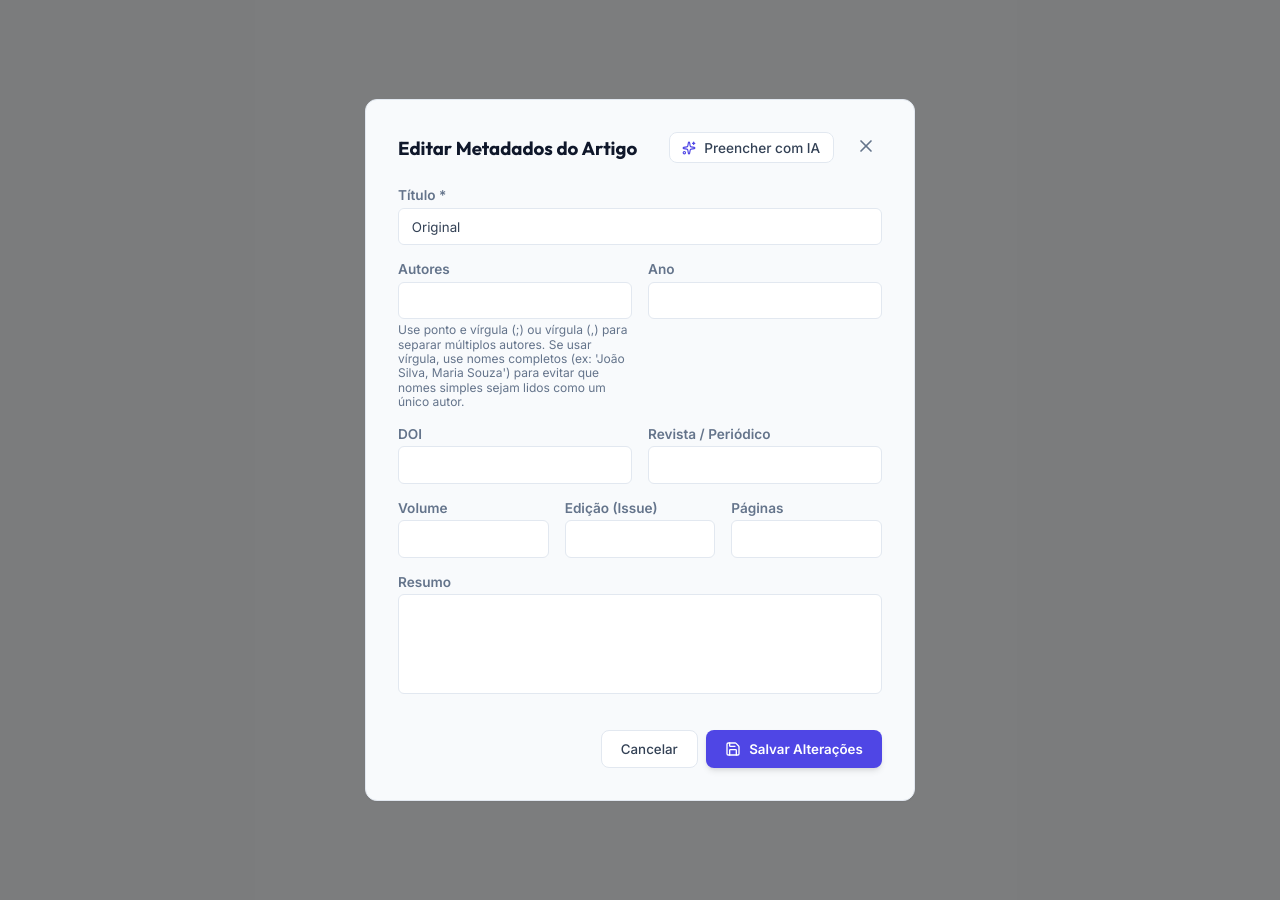
Test case: EditArticleModal AI fill › fills only the fields that are still empty
The image size is (1280, 900).
Click the button "Preencher com IA" at (751, 148), box x1=668 y1=132 x2=834 y2=163
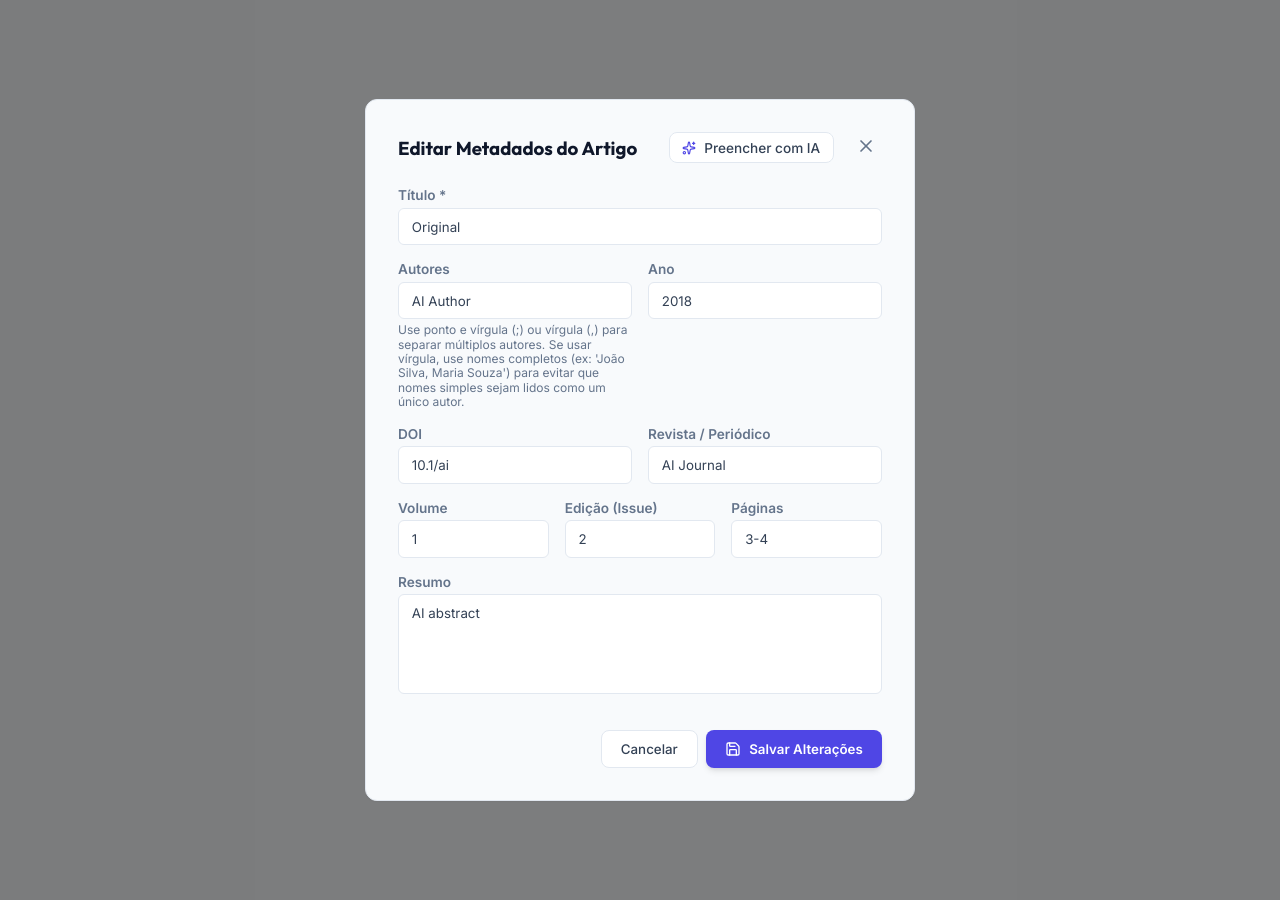
Now the field labelled "Autores" holds "AI Author", box x1=398 y1=282 x2=632 y2=319
